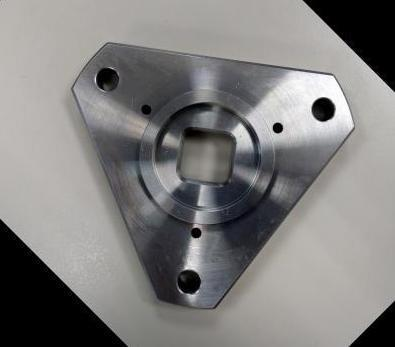hole: (167, 259, 209, 302), (85, 58, 127, 100), (302, 88, 344, 130), (185, 222, 207, 244), (136, 99, 156, 119), (268, 118, 287, 137)
